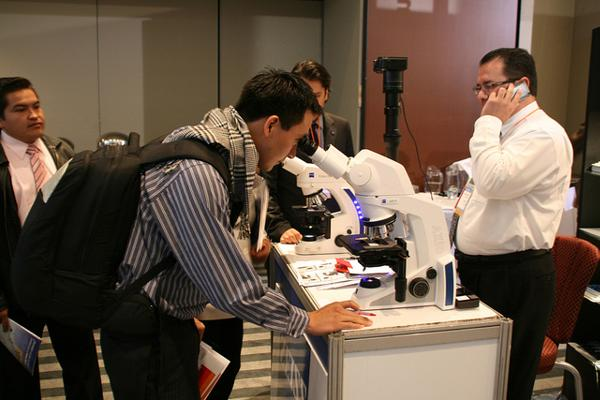person: (102, 69, 373, 400)
